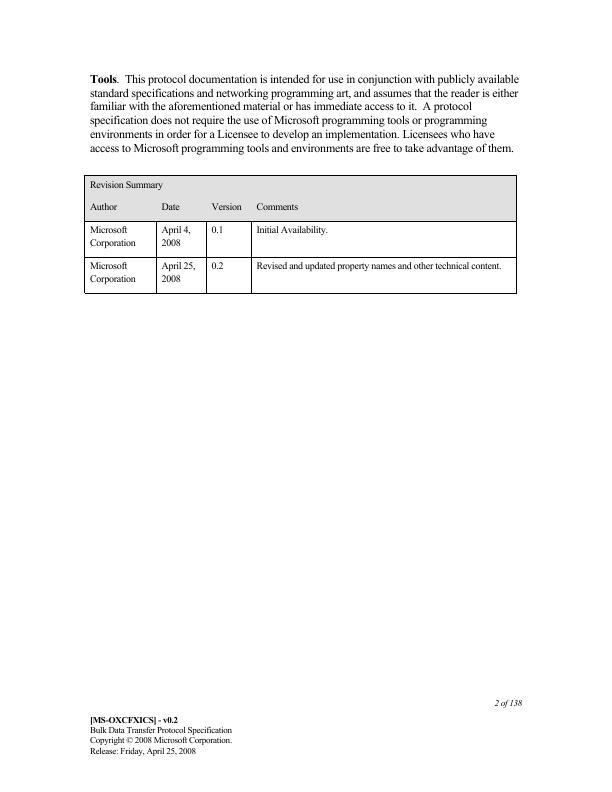table: (83, 173, 520, 298)
text: (84, 71, 521, 156), (86, 713, 235, 759), (492, 695, 526, 712)
